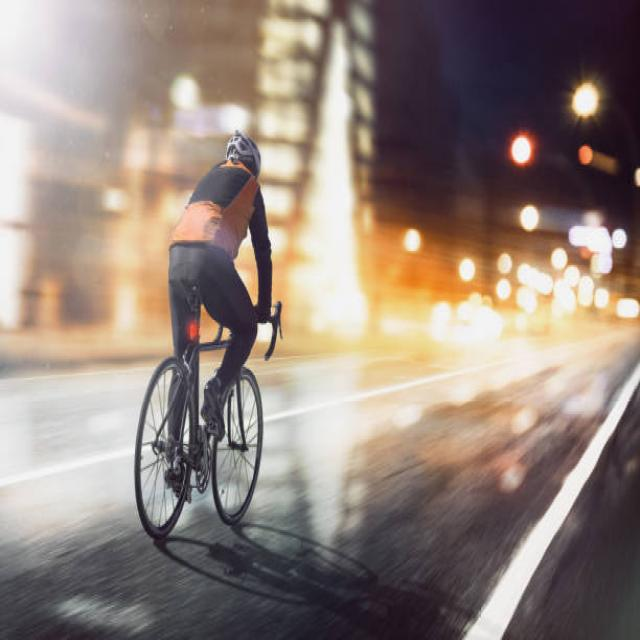bicycle: (135, 131, 281, 539)
